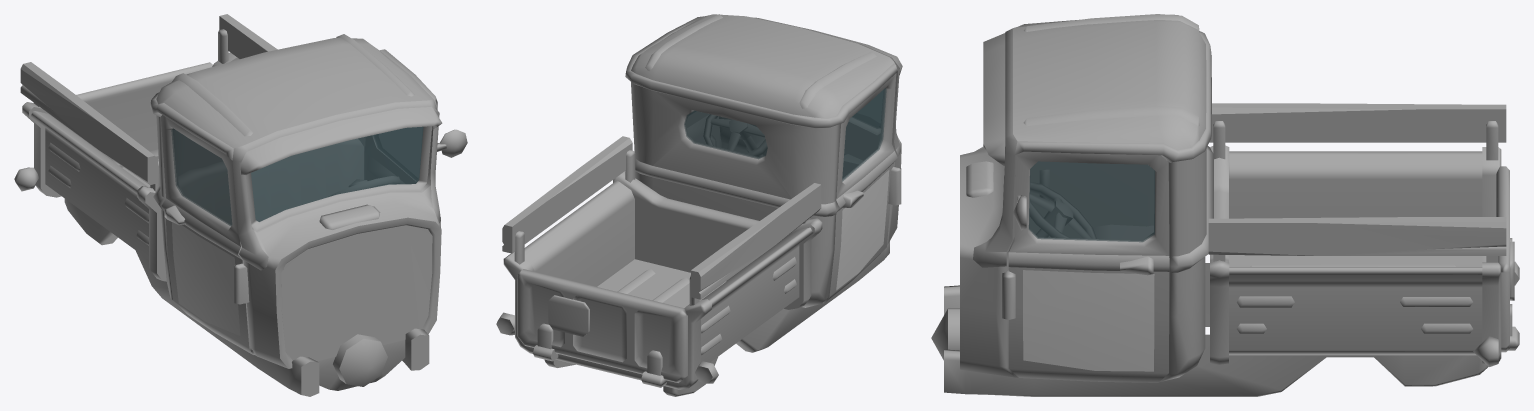
File: Body_Pickup.fbx
3 renders of one model, left to right at view 1: azimuth 30°, elevation 25°; view 2: azimuth 150°, elevation 25°; view 3: azimuth 270°, elevation 25°, orthographic. The views are drawn at different scales.
Visible parts, largest first — view 1: Pickup_Body_Mesh, Pickup_Body_Window_Mesh, Pickup_Body_Trunk_Sides_Mesh, Pickup_Door_Right_Mesh, Pickup_Door_Right_Decal_Mesh, Pickup_Body_Trunk_Lid_Mesh, Pickup_Door_Right_Window_Mesh, Pickup_Door_Left_Mesh, Pickup_Door_Left_Window_Mesh, Pickup_Body_Steer_Wheel_Mesh; view 2: Pickup_Body_Mesh, Pickup_Body_Trunk_Lid_Mesh, Pickup_Body_Trunk_Sides_Mesh, Pickup_Door_Right_Mesh, Pickup_Door_Right_Decal_Mesh, Pickup_Body_Window_Mesh, Pickup_Door_Right_Window_Mesh, Pickup_Body_Steer_Wheel_Mesh, Pickup_Door_Left_Mesh; view 3: Pickup_Body_Mesh, Pickup_Body_Trunk_Sides_Mesh, Pickup_Door_Left_Mesh, Pickup_Door_Left_Decal_Mesh, Pickup_Door_Left_Window_Mesh, Pickup_Door_Right_Mesh, Pickup_Body_Trunk_Lid_Mesh, Pickup_Body_Steer_Wheel_Mesh.
Part boxes in pixels (x1,y1,x2,y2): Pickup_Body_Mesh: [14, 34, 442, 396]; Pickup_Body_Window_Mesh: [251, 126, 423, 221]; Pickup_Body_Trunk_Sides_Mesh: [20, 14, 277, 191]; Pickup_Door_Right_Mesh: [161, 115, 255, 354]; Pickup_Door_Right_Decal_Mesh: [172, 222, 240, 335]; Pickup_Body_Trunk_Lid_Mesh: [54, 62, 212, 160]; Pickup_Door_Right_Window_Mesh: [171, 128, 232, 226]; Pickup_Door_Left_Mesh: [364, 127, 467, 183]; Pickup_Door_Left_Window_Mesh: [374, 127, 421, 180]; Pickup_Body_Steer_Wheel_Mesh: [329, 176, 400, 196]; Pickup_Body_Mesh: [496, 14, 902, 396]; Pickup_Body_Trunk_Lid_Mesh: [517, 269, 687, 382]; Pickup_Body_Trunk_Sides_Mesh: [502, 136, 821, 305]; Pickup_Door_Right_Mesh: [823, 73, 897, 303]; Pickup_Door_Right_Decal_Mesh: [836, 170, 889, 290]; Pickup_Body_Window_Mesh: [684, 90, 883, 159]; Pickup_Door_Right_Window_Mesh: [842, 88, 886, 181]; Pickup_Body_Steer_Wheel_Mesh: [703, 114, 767, 156]; Pickup_Door_Left_Mesh: [686, 111, 721, 147]; Pickup_Body_Mesh: [931, 14, 1519, 396]; Pickup_Body_Trunk_Sides_Mesh: [1208, 103, 1506, 262]; Pickup_Door_Left_Mesh: [1008, 151, 1169, 382]; Pickup_Door_Left_Decal_Mesh: [1023, 270, 1154, 371]; Pickup_Door_Left_Window_Mesh: [1028, 161, 1155, 242]; Pickup_Door_Right_Mesh: [1030, 161, 1153, 238]; Pickup_Body_Trunk_Lid_Mesh: [1496, 166, 1514, 352]; Pickup_Body_Steer_Wheel_Mesh: [1030, 182, 1096, 238].
Bounding box in the file's own units: 176 × 179 × 305.
